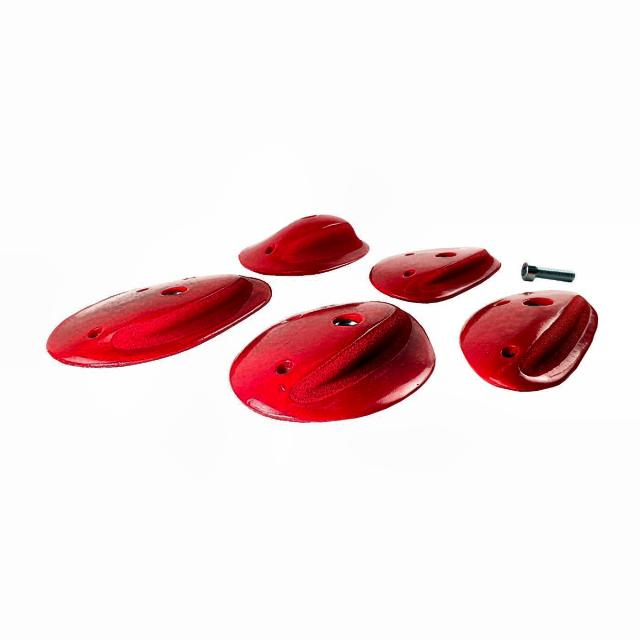Hold: (230, 307, 440, 420), (46, 275, 270, 369), (229, 206, 369, 280), (366, 250, 504, 295)
